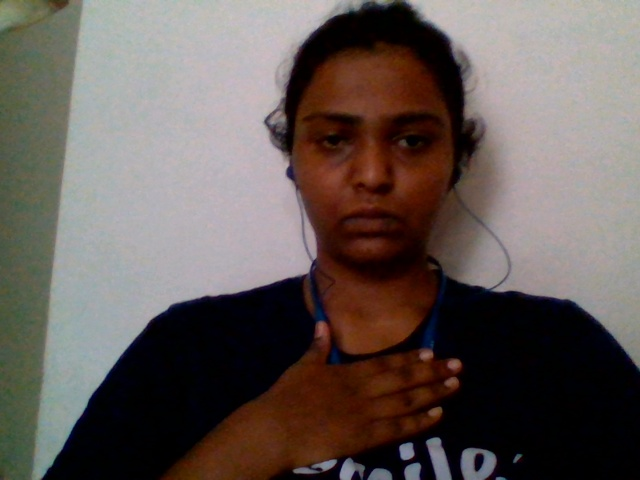Please: (232, 300, 479, 464)
